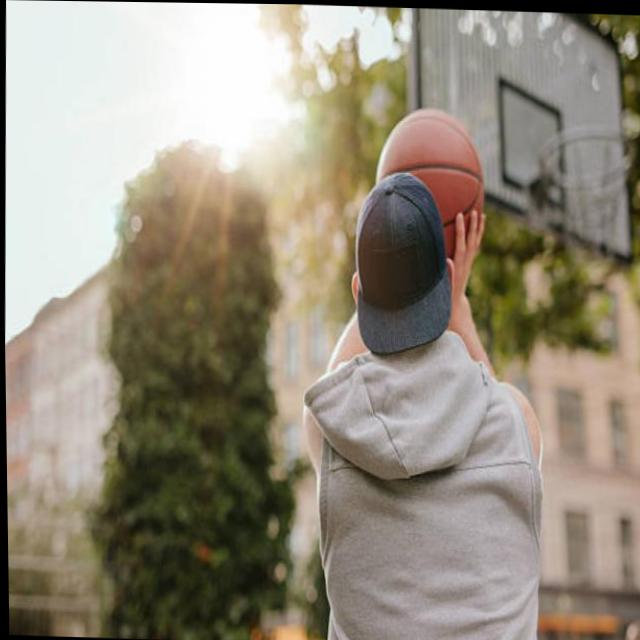no helmet: (332, 151, 466, 363)
